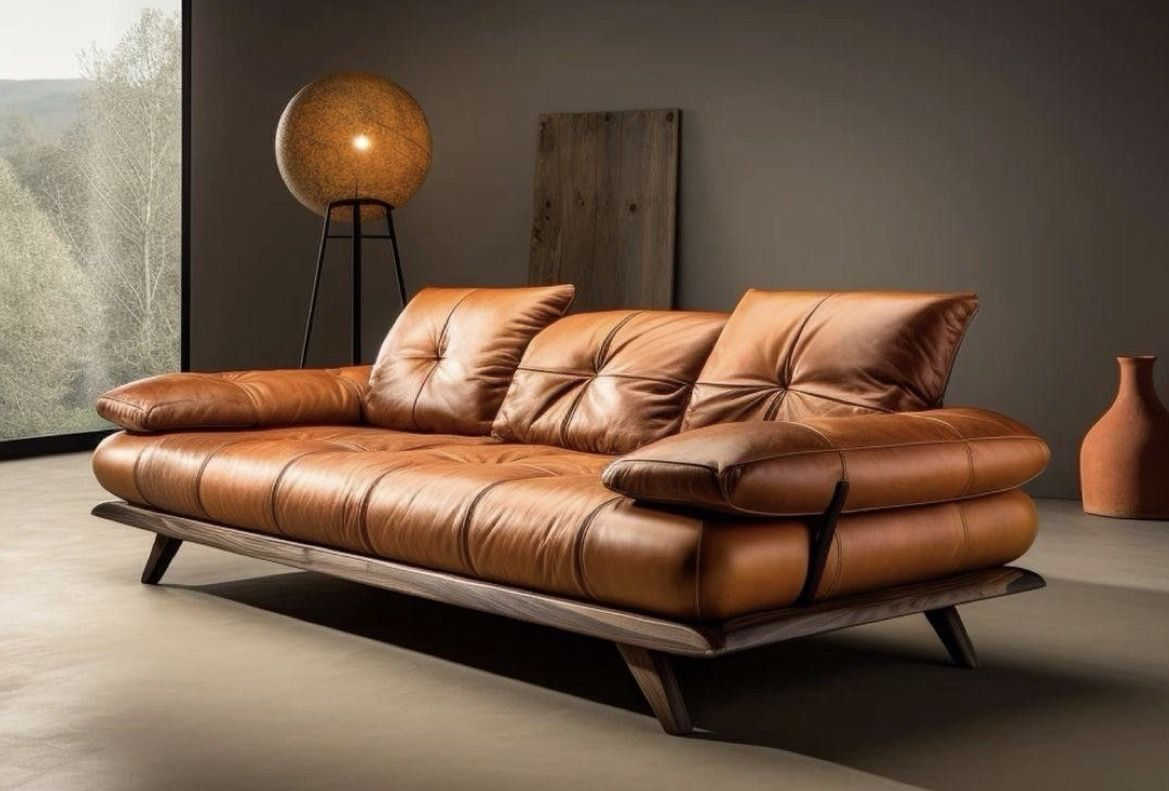3seatersofa: (93, 284, 1049, 732)
backrest: (364, 285, 976, 453)
base: (93, 502, 1043, 655)
leftarmrest: (603, 409, 1048, 516)
leg: (618, 643, 692, 734), (925, 606, 978, 667), (141, 534, 182, 583)
rightarmrest: (97, 367, 368, 432)
seat: (95, 426, 819, 621), (816, 490, 1036, 599)
